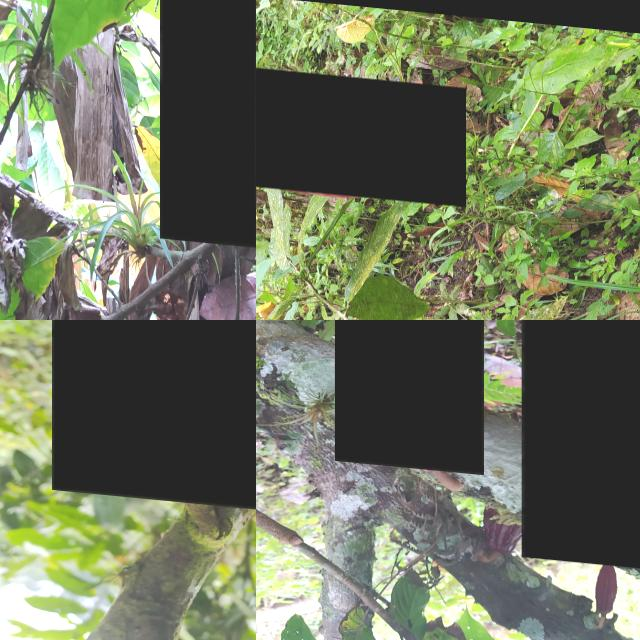Fitoftora: (52, 320, 256, 504), (160, 0, 256, 241)
Monilia: (335, 320, 483, 468)
Sana: (256, 55, 466, 197), (521, 320, 640, 568), (596, 553, 618, 609)
